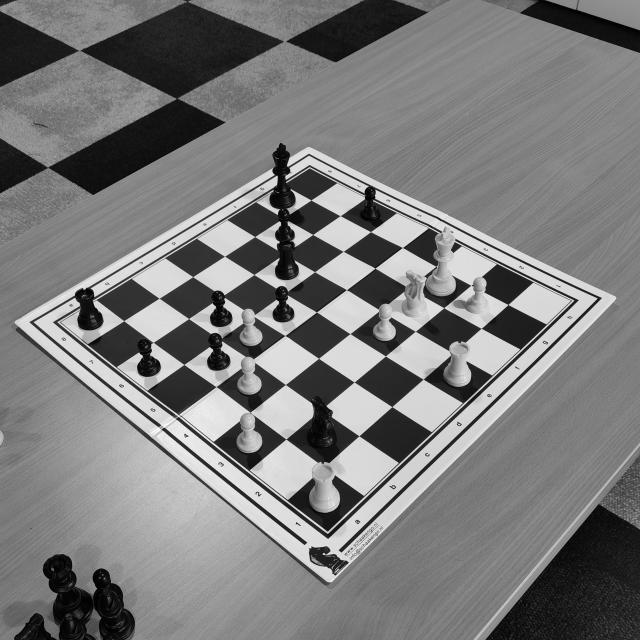chessboard: (59, 169, 573, 534)
